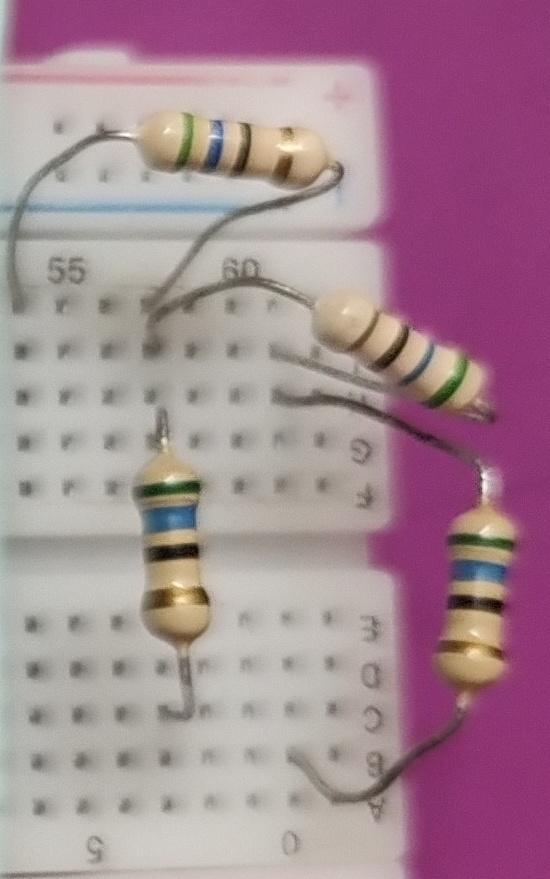resistor: (310, 270, 495, 430), (125, 435, 232, 660), (130, 105, 343, 218), (432, 495, 525, 715)
